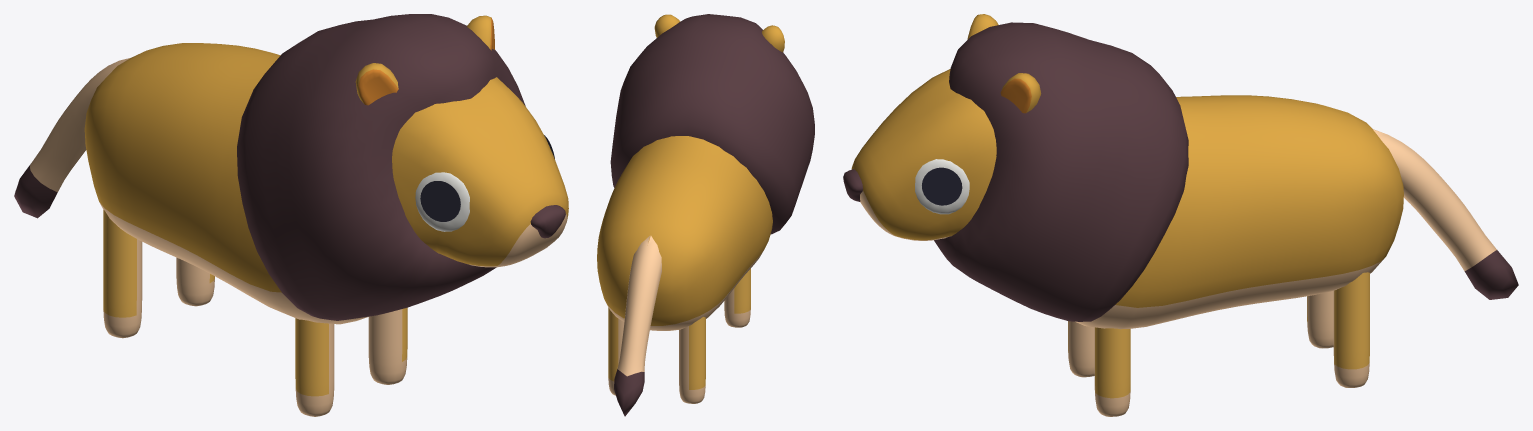
File: Lion.glb
3 renders of one model, left to right at view 1: azimuth 30°, elevation 25°; view 2: azimuth 150°, elevation 25°; view 3: azimuth 270°, elevation 25°, orthographic. The views are drawn at different scales.
Parts seen in each view (by area): view 1: Lion; view 2: Lion; view 3: Lion.
Part boxes in pixels (<box>): Lion: <box>14,14,568,416</box>; Lion: <box>597,14,814,416</box>; Lion: <box>843,14,1518,416</box>.
Bounding box in the file's own units: 1.6 × 2.15 × 3.59.
1 material, 1 textured.
